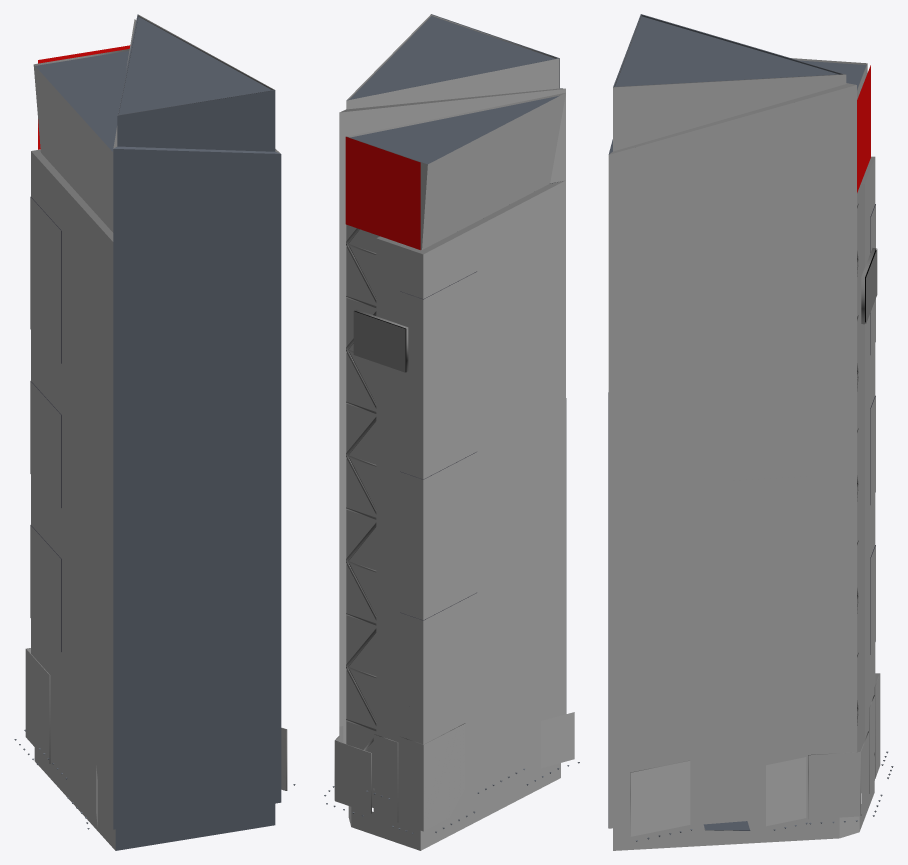
Rendered from building_tallG.fbx.
3 views of the same model, side by side, from view 1: azimuth 30°, elevation 25°; view 2: azimuth 150°, elevation 25°; view 3: azimuth 270°, elevation 25° (orthographic). The views are drawn at different scales.
Visible parts, largest first — view 1: building_tallG_geo; view 2: building_tallG_geo; view 3: building_tallG_geo.
Part boxes in pixels (<box>): building_tallG_geo: <box>14,14,295,850</box>; building_tallG_geo: <box>324,14,579,850</box>; building_tallG_geo: <box>608,14,893,850</box>.
Bounding box in the file's own units: 6.33 × 22.1 × 7.48.
